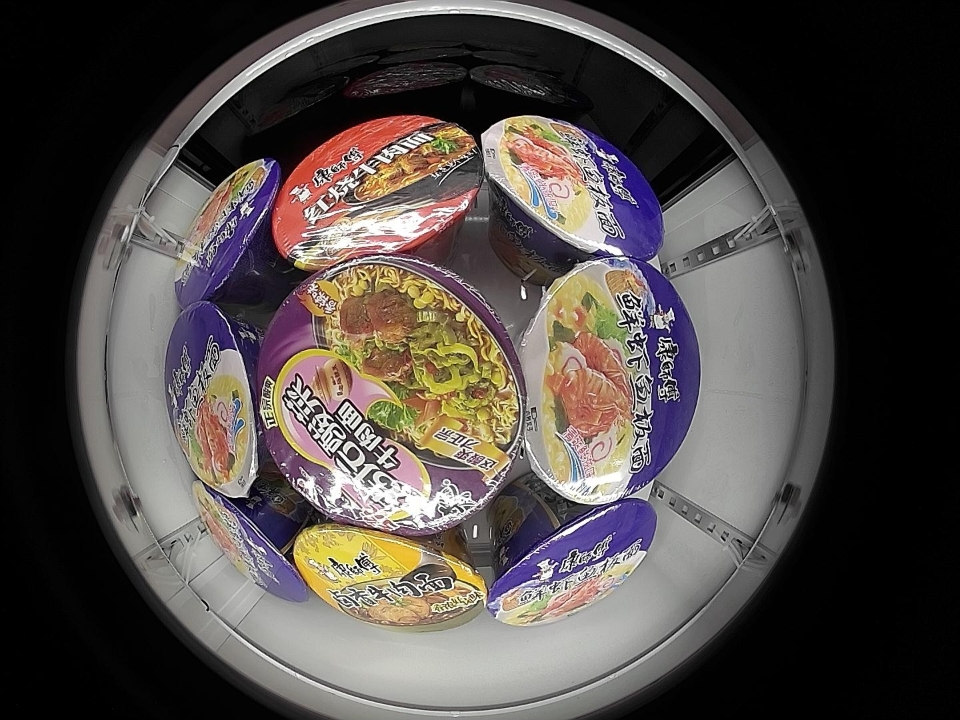hongshaoniurou: (272, 114, 484, 265)
laotansuancai: (257, 257, 526, 535)
luxiangniurou: (293, 522, 488, 631)
xianxiayuban: (527, 257, 700, 506), (481, 115, 666, 264), (486, 499, 657, 627), (166, 300, 264, 497), (174, 157, 282, 306), (192, 482, 308, 605)
